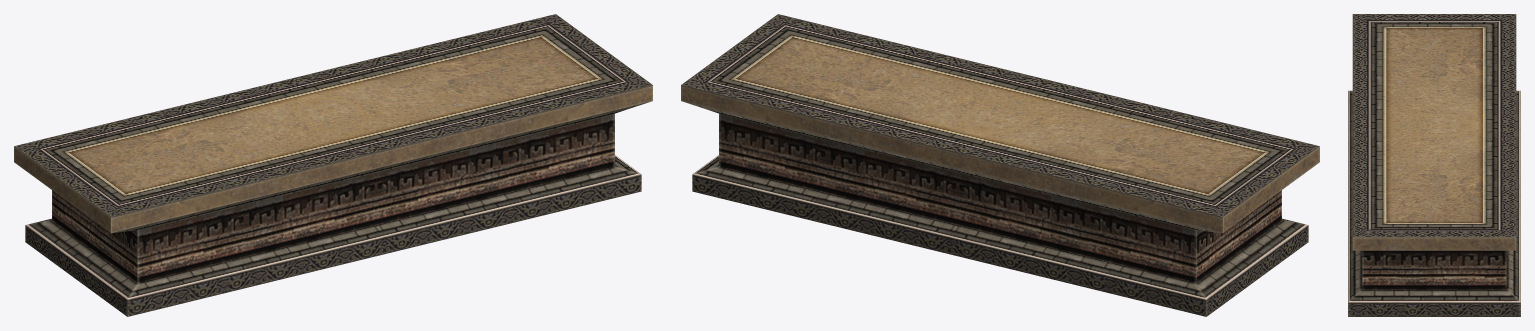
The model's file is Kunlun_desk.FBX.
3 views of the same model, side by side, from view 1: azimuth 30°, elevation 25°; view 2: azimuth 150°, elevation 25°; view 3: azimuth 270°, elevation 25° (orthographic). The views are drawn at different scales.
Visible parts, largest first — view 1: Object648; view 2: Object648; view 3: Object648.
Boxes of the visible parts, bbox=[...] form: Object648: bbox=[14, 14, 652, 316]; Object648: bbox=[681, 14, 1319, 316]; Object648: bbox=[1348, 14, 1520, 316].
Bounding box in the file's own units: 719 × 128 × 235.
Materials: 1 (1 with a texture image).
